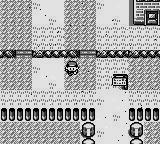leer: (113, 74, 128, 89)
main: (65, 61, 79, 75)
no-caminable: (1, 108, 95, 121), (132, 0, 159, 25), (129, 108, 158, 121), (80, 123, 96, 143), (128, 123, 144, 143)
puerta: (146, 11, 158, 25)
salto: (97, 51, 159, 57), (33, 50, 79, 57), (0, 50, 16, 57)
